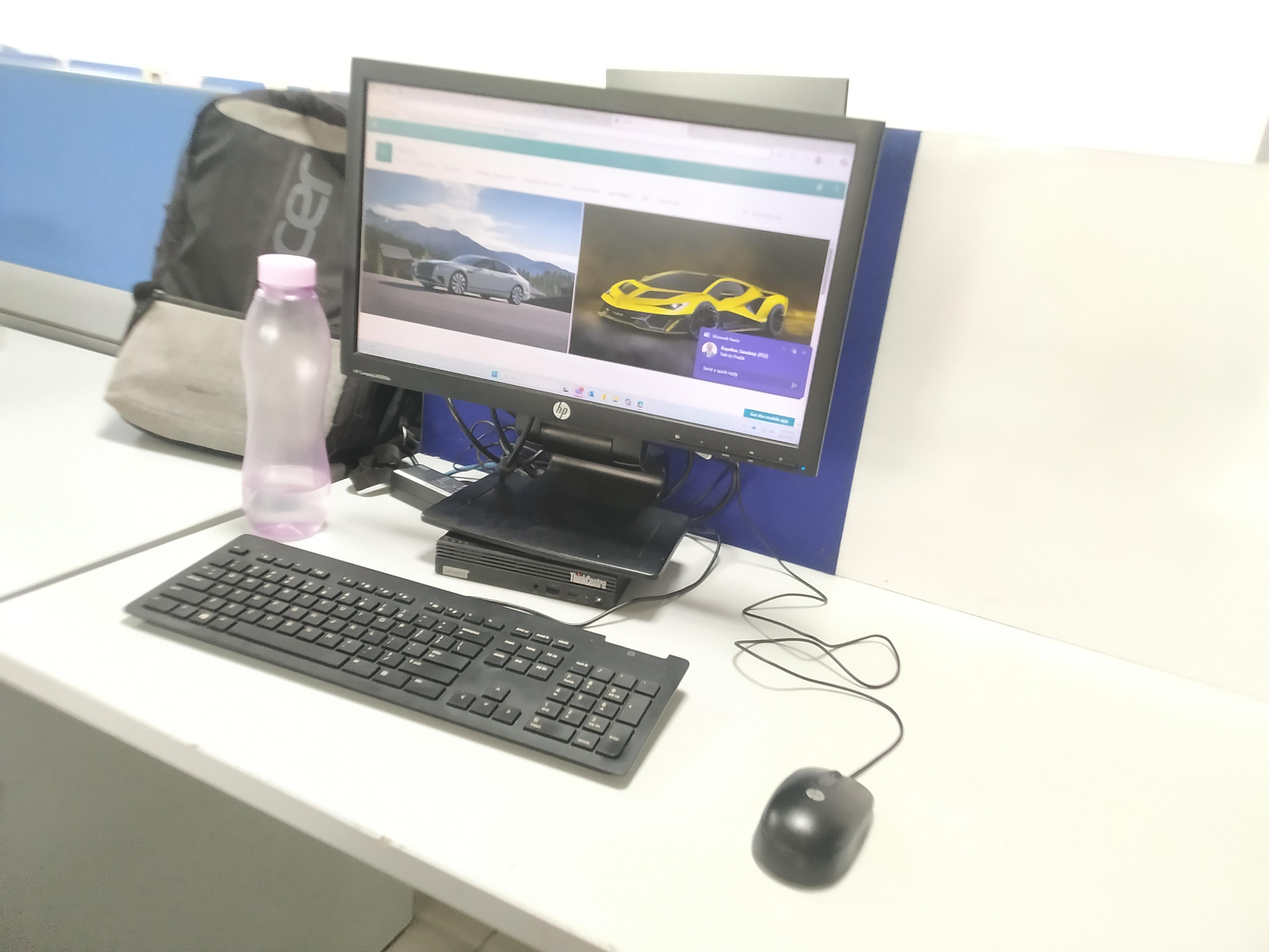bag: (98, 82, 355, 466)
bottle: (228, 248, 353, 547)
desktop: (331, 47, 903, 593)
keyboard: (105, 519, 699, 798)
mouse: (745, 746, 878, 901)
